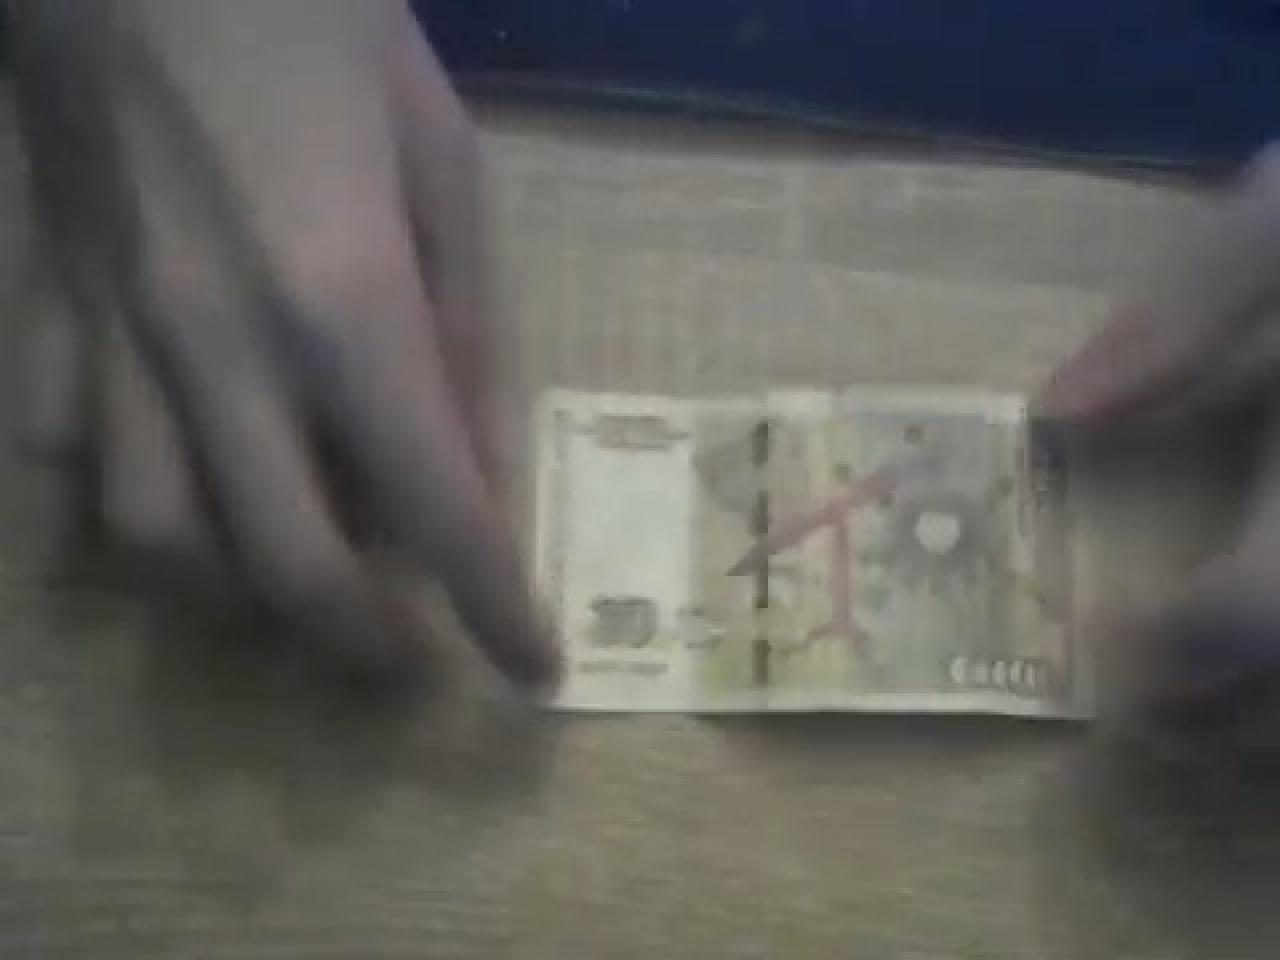10leva: (531, 381, 1093, 723)
